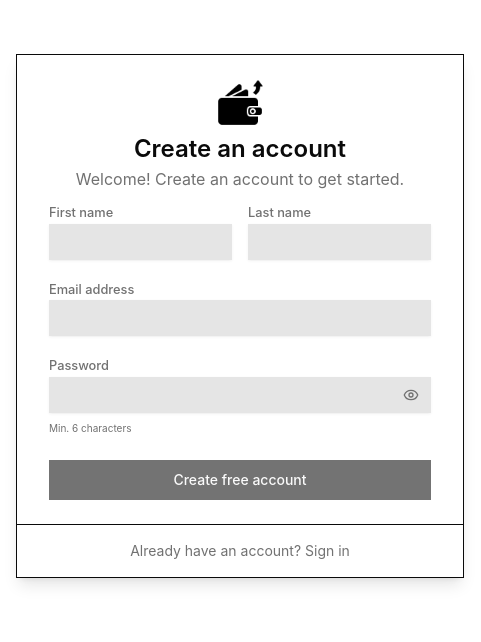
Frontend Tests Minimum 10 › Register form blocks short passwords
This screenshot has width=481, height=642.
Type "John" into the field labelled "First name".
click(140, 242); type("John")  # box [49,224,232,260]
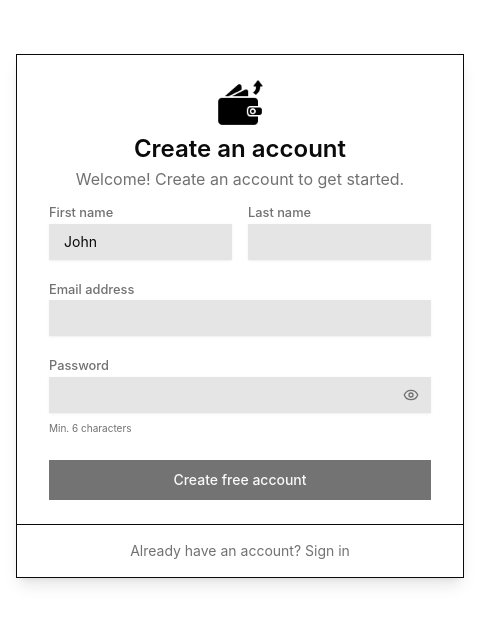
Type "Doe" into the field labelled "Last name".
click(340, 242); type("Doe")  # box [248,224,431,260]
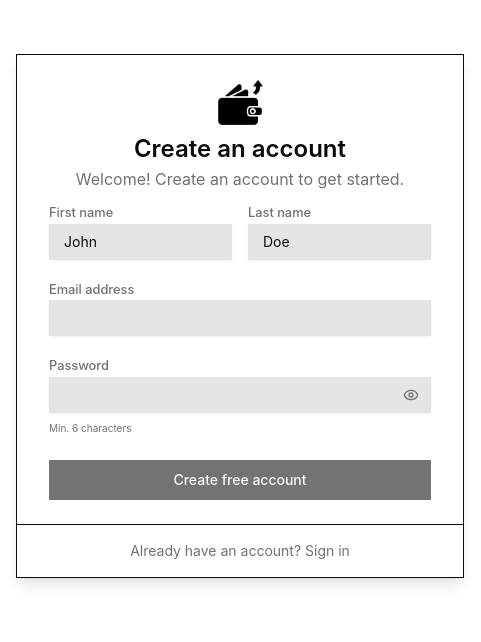
Type "john@example.com" into the field labelled "Email address".
click(240, 318); type("john@example.com")  # box [49,300,431,336]
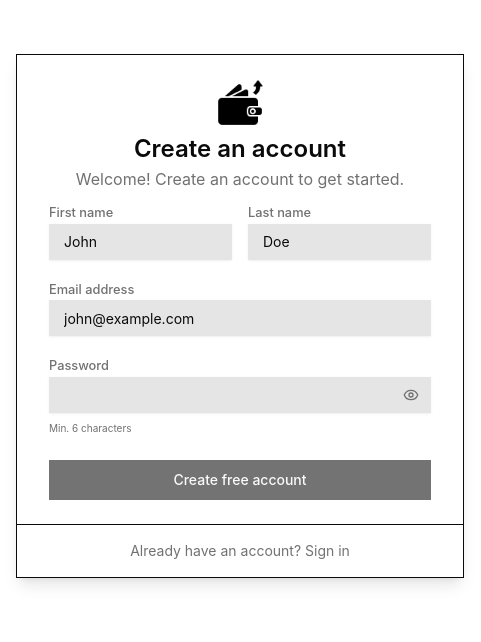
Type "123" into the password field labelled "Password".
click(240, 395); type("123")  # box [49,377,431,413]
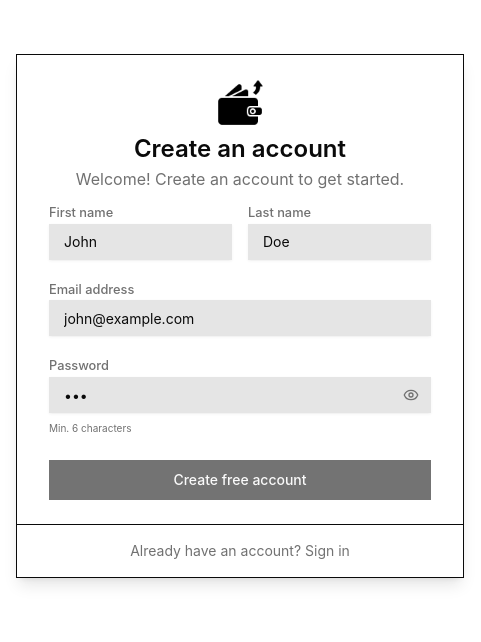
Click the button "Create free account".
click(240, 480)  # box [49,460,431,500]
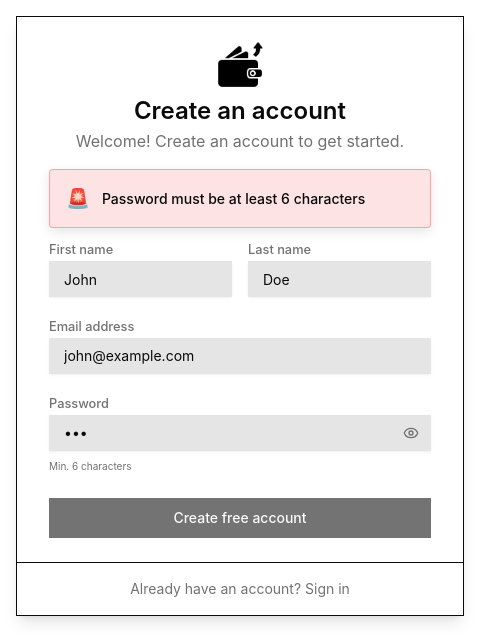
Expected: the text "Password must be at least 6 characters" is shown, [102,188,365,209]
